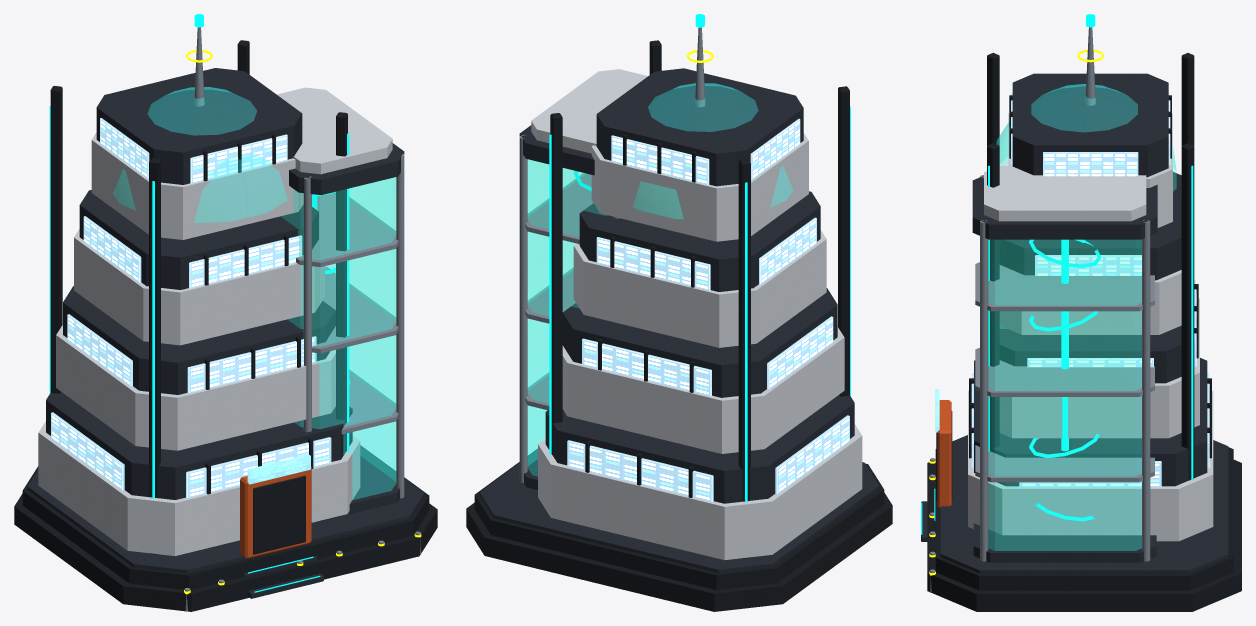
File: bldg_18_r1_04.glb
The picture shows the model from 3 angles, left to right: view 1: azimuth 30°, elevation 25°; view 2: azimuth 150°, elevation 25°; view 3: azimuth 270°, elevation 25°; orthographic projection.
Parts seen in each view (by area): view 1: Bldg18_C04_aero_white, Bldg18_C04_carbon_slate, Bldg18_C04_gunmetal, Bldg18_C04_glass_emerald, Bldg18_C04_window_lit, Bldg18_C04_steel_machined, Bldg18_C04_led_cyan, Bldg18_C04_accent_orange, Bldg18_C04_marquee; view 2: Bldg18_C04_aero_white, Bldg18_C04_carbon_slate, Bldg18_C04_gunmetal, Bldg18_C04_window_lit, Bldg18_C04_glass_emerald, Bldg18_C04_steel_machined, Bldg18_C04_led_cyan; view 3: Bldg18_C04_glass_emerald, Bldg18_C04_carbon_slate, Bldg18_C04_aero_white, Bldg18_C04_gunmetal, Bldg18_C04_steel_machined, Bldg18_C04_window_lit, Bldg18_C04_led_cyan, Bldg18_C04_accent_orange.
Part boxes in pixels (x1,y1,x2,y2): Bldg18_C04_aero_white: (38, 87, 392, 555); Bldg18_C04_carbon_slate: (27, 68, 424, 598); Bldg18_C04_gunmetal: (14, 40, 437, 611); Bldg18_C04_glass_emerald: (113, 87, 396, 499); Bldg18_C04_window_lit: (51, 118, 331, 498); Bldg18_C04_steel_machined: (184, 27, 421, 611); Bldg18_C04_led_cyan: (49, 14, 350, 592); Bldg18_C04_accent_orange: (240, 467, 311, 558); Bldg18_C04_marquee: (247, 454, 310, 484); Bldg18_C04_aero_white: (531, 69, 862, 560); Bldg18_C04_carbon_slate: (479, 68, 879, 572); Bldg18_C04_gunmetal: (466, 40, 892, 611); Bldg18_C04_window_lit: (567, 118, 849, 501); Bldg18_C04_glass_emerald: (527, 83, 792, 476); Bldg18_C04_steel_machined: (519, 27, 875, 482); Bldg18_C04_led_cyan: (549, 14, 850, 502); Bldg18_C04_glass_emerald: (988, 84, 1176, 550); Bldg18_C04_carbon_slate: (921, 73, 1228, 573); Bldg18_C04_aero_white: (968, 113, 1213, 541); Bldg18_C04_gunmetal: (927, 52, 1241, 611); Bldg18_C04_steel_machined: (930, 27, 1154, 592); Bldg18_C04_window_lit: (971, 93, 1209, 487); Bldg18_C04_led_cyan: (921, 14, 1193, 534); Bldg18_C04_accent_orange: (937, 400, 951, 507).
Bounding box in the file's own units: 12 × 18.72 × 10.71.
Materials: 12 (12 with a texture image).
